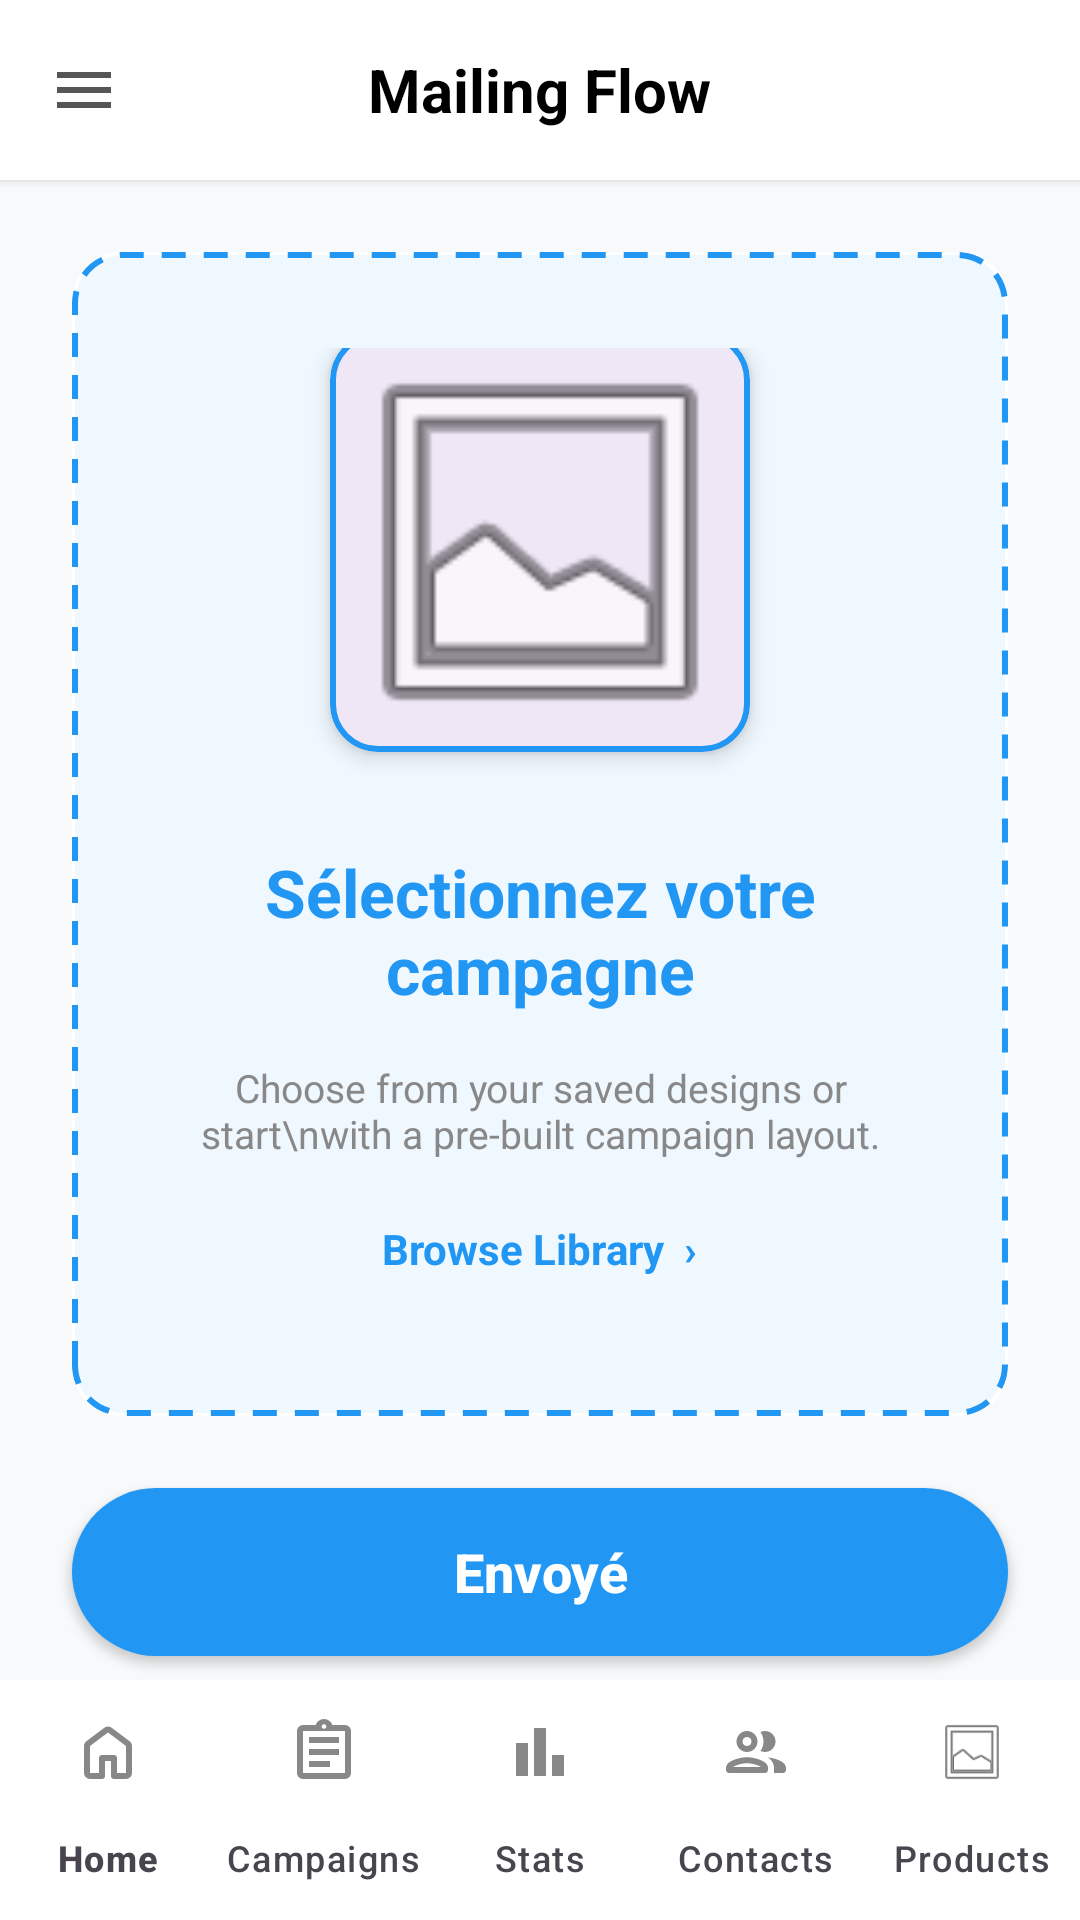

Screen size 1080*1920. Icon name, then its center in pixels as point (x, y):
menu: point (84, 90)
